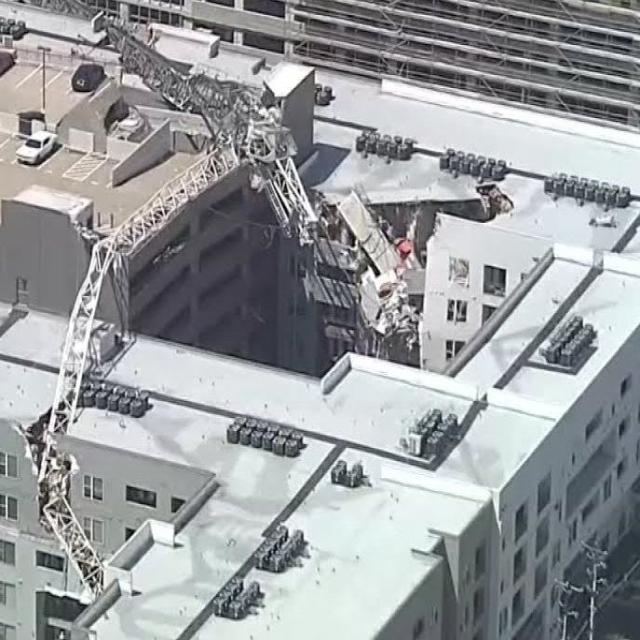collapsed_building: (193, 153, 513, 354)
